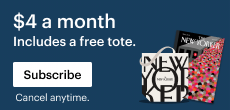fake_button: (9, 58, 95, 90)
